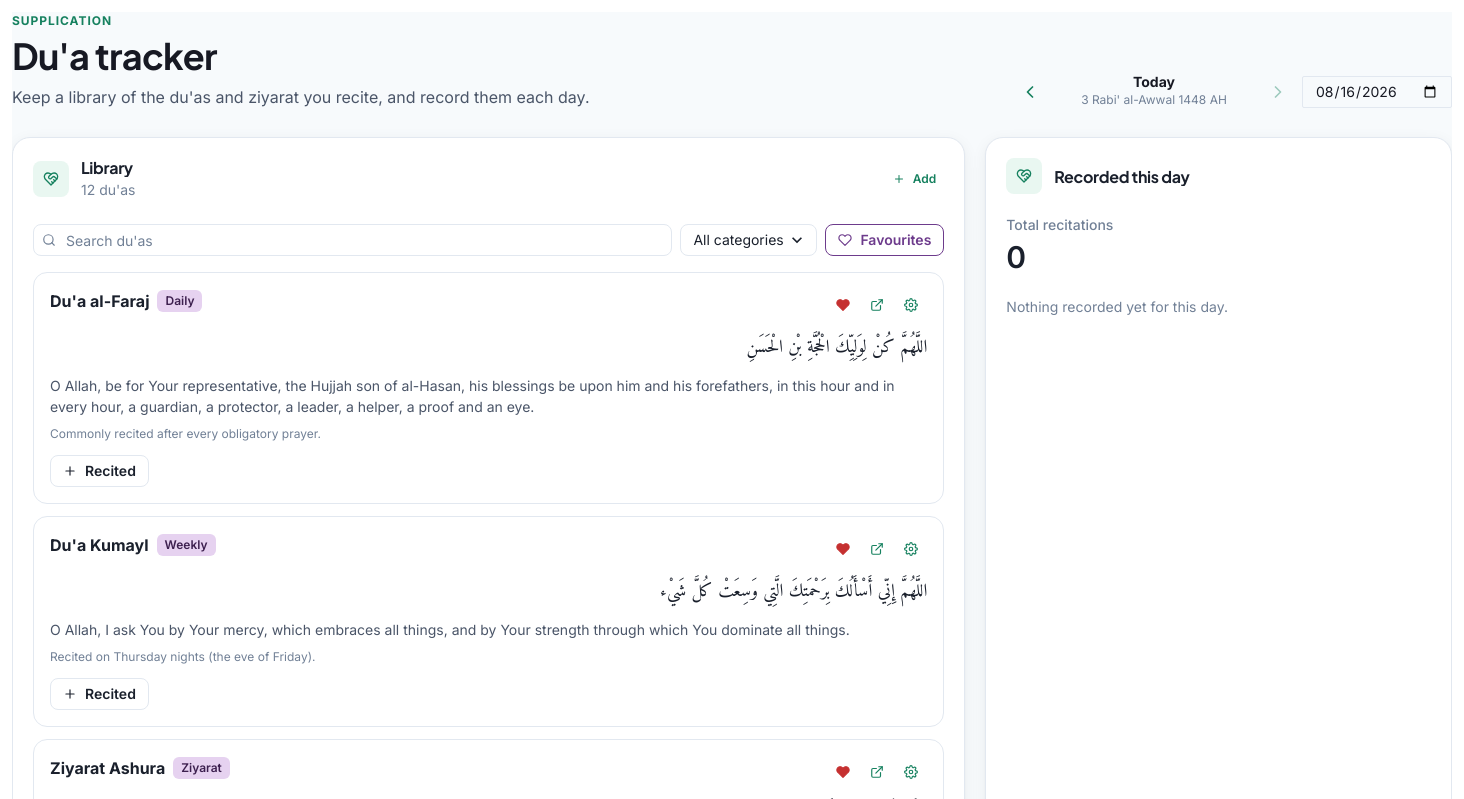
Scenario: DuaTracker › still renders after the logged entries change
The image size is (1464, 799).
Click the button with aria-label "Record a recitation of Du'a Kumayl" at (99, 694), box [50,678,149,710]
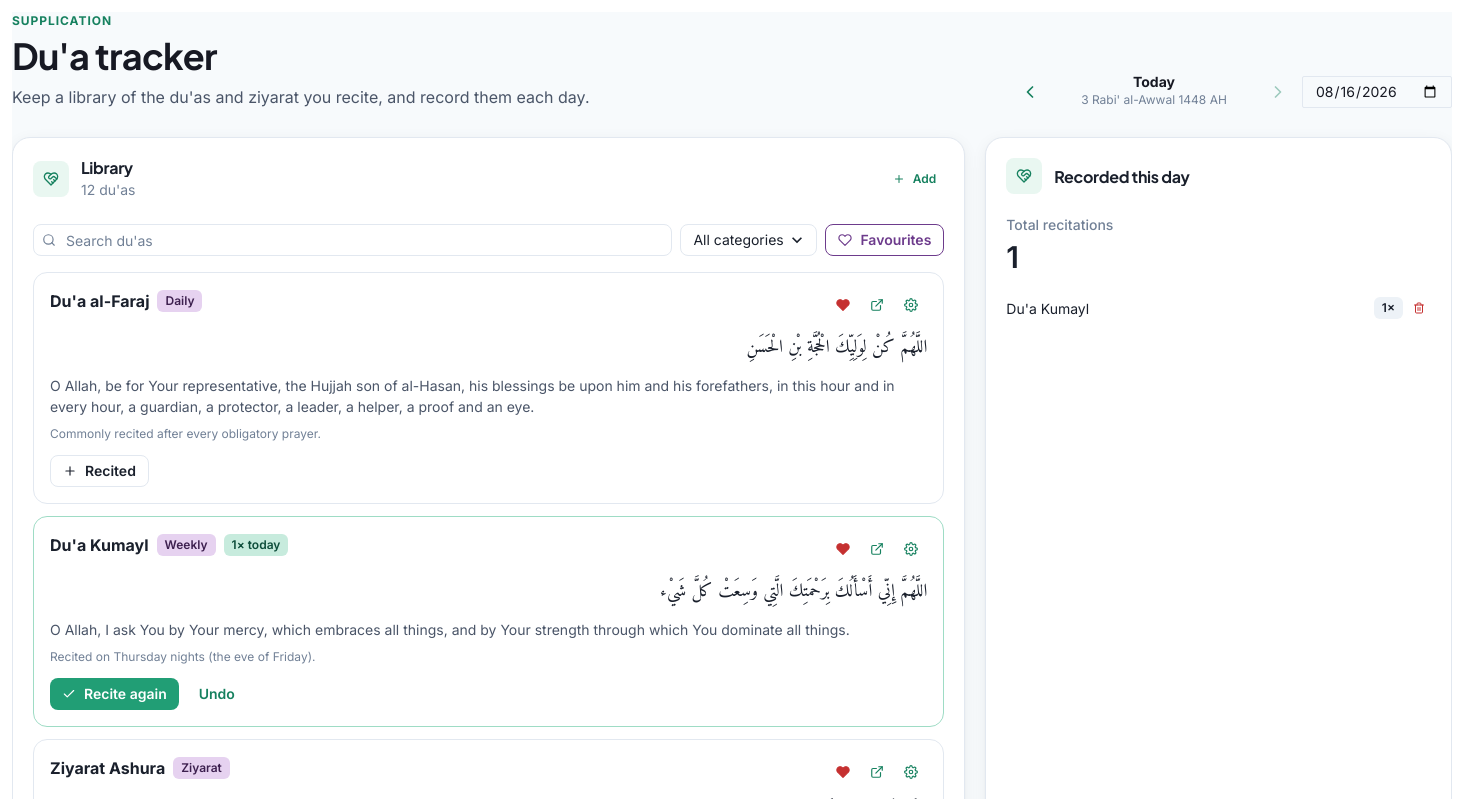
Check: the text "Du'a Kumayl" is shown 2 times, box [50,533,149,557]; [1006,298,1089,319]
Check: the text "1× today" is shown, box [224,534,288,556]
